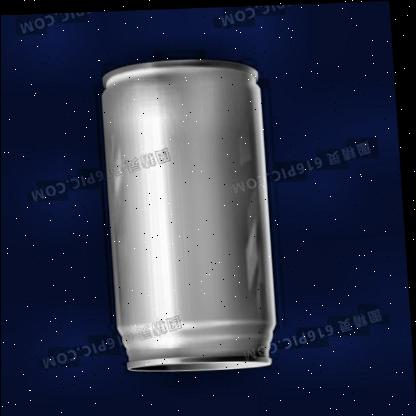Can: (99, 54, 277, 372)
